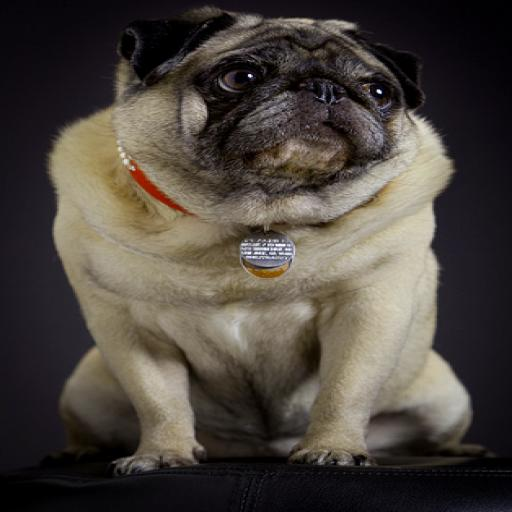dog_face: (104, 10, 430, 208)
